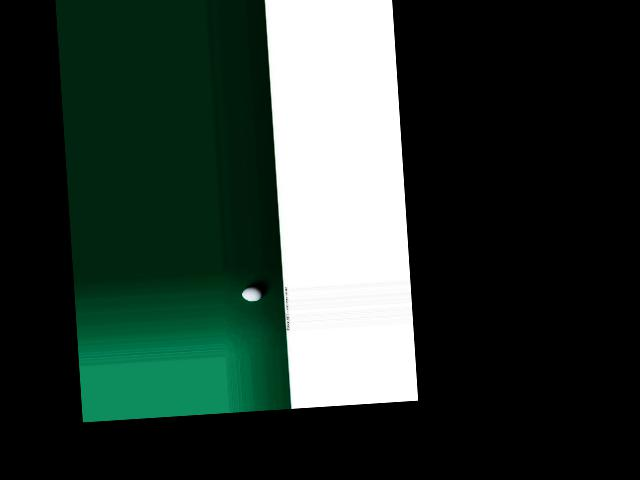egg: (242, 286, 263, 303)
